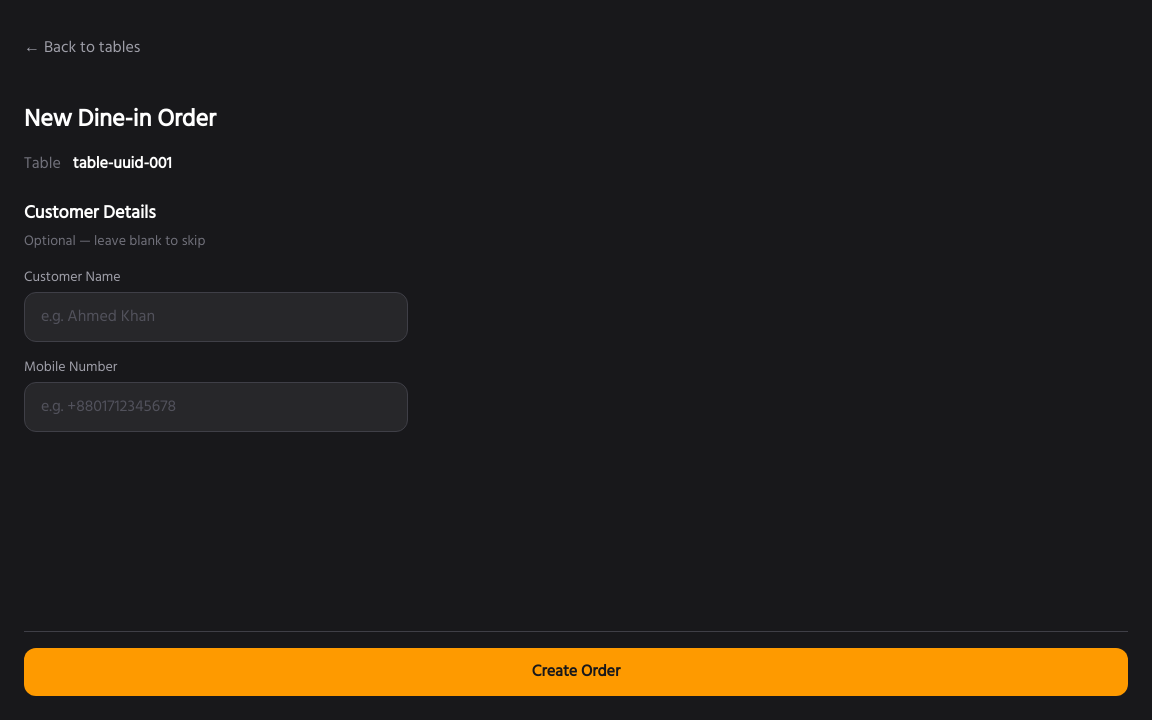
NewOrderPage (dine-in with optional customer capture — issue #401) › on failure › shows a generic error message when the thrown error is not an Error instance
What coordinates should you click on to do the following:
click the button "Create Order"
I would click on:
 (576, 672)
Its box is [24,648,1128,696].
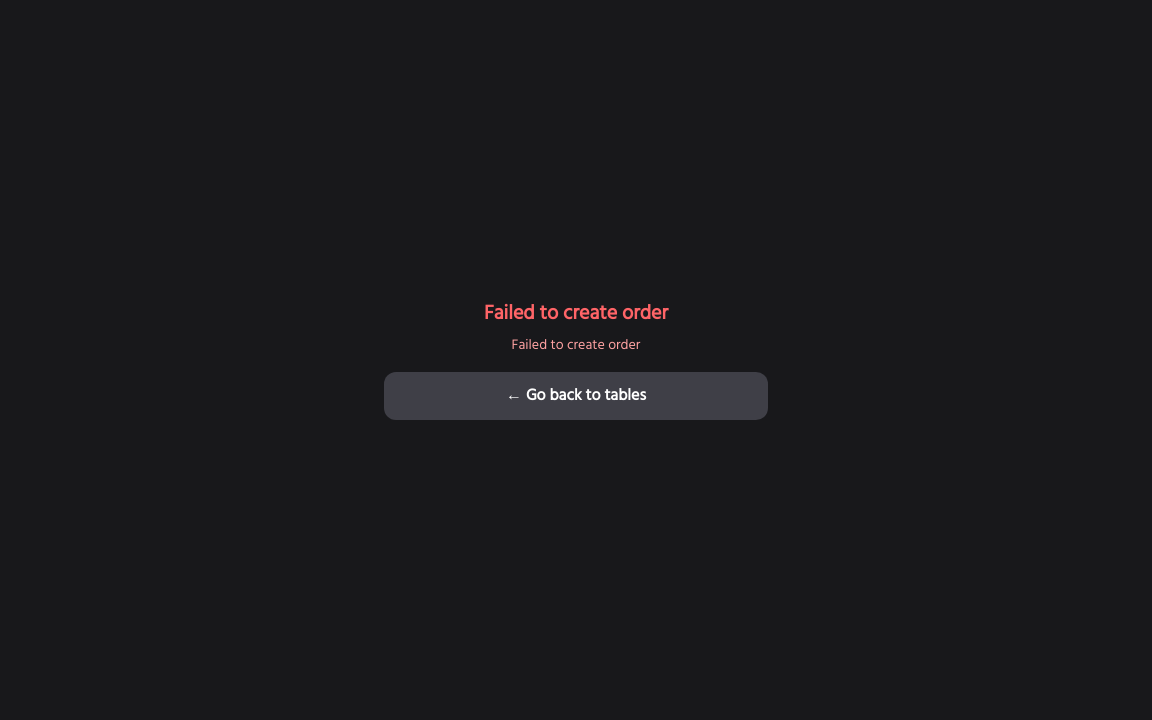
Expected: the button "← Go back to tables" is shown, [384,372,768,420]
